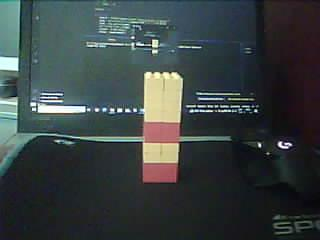lego: (143, 70, 183, 183)
